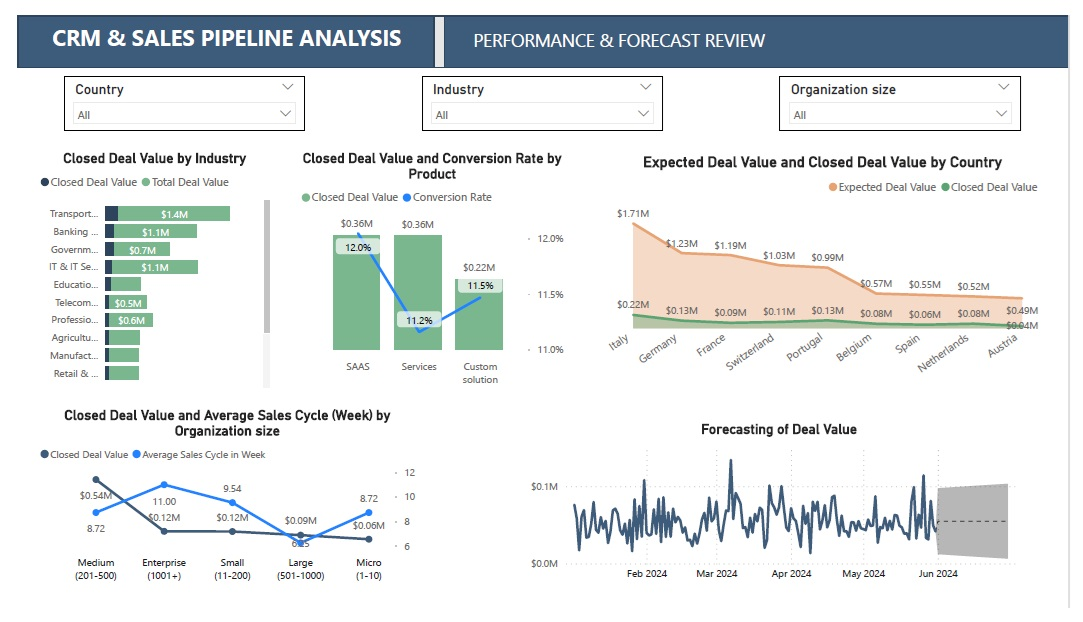

What the dashboard file says about the page in this screenshot:
{"tool":"powerbi","page":{"name":"Page 2","canvas":[1280,720],"ordinal":1},"visuals":[{"type":"lineChart","title":"Forecasting of Deal Value","fields":{"Y":["Sum(CRM_data.Deal Value, $)"],"Category":["CRM_data.Lead acquisition date.Variation.Date Hierarchy.Year","CRM_data.Lead acquisition date.Variation.Date Hierarchy.Quarter","CRM_data.Lead acquisition date.Variation.Date Hierarchy.Month","CRM_data.Lead acquisition date.Variation.Date Hierarchy.Day"]},"box":[620.5,487.3,614.6,209.3],"z":0},{"type":"lineChart","title":"Closed Deal Value and Average Sales Cycle (Week) by Organization size","fields":{"Category":["CRM_data.Organization size"],"Y":["CRM_data.Closed Deal Value"],"Y2":["Avg(CRM_data.Deal Closing Duration)"]},"box":[22,468.3,466.8,228.3],"z":1000},{"type":"areaChart","title":"Expected Deal Value and Closed Deal Value by Country","fields":{"Category":["CRM_data.Country"],"Y":["Sum(CRM_data.Deal Value, $)","CRM_data.Closed Deal Value"]},"box":[703.9,156.6,557.6,301.5],"z":2000},{"type":"shape","box":[0,0,1280,63.3],"z":3000},{"type":"textbox","box":[36.7,3.3,458.3,48.3],"z":4000},{"type":"lineStackedColumnComboChart","fields":{"Category":["CRM_data.Product"],"Y":["CRM_data.Closed Deal Value"],"Y2":["CRM_data.Conversion Rate"]},"box":[339.5,156.6,330.7,301.5],"z":5000},{"type":"barChart","title":"Closed Deal Value by Industry","fields":{"Category":["CRM_data.Industry"],"Y":["CRM_data.Closed Deal Value","Sum(CRM_data.Deal Value, $)"]},"box":[21.4,157.1,260,301.4],"z":6000},{"type":"slicer","fields":{"Values":["CRM_data.Industry"]},"box":[491.7,73.2,294.1,67.3],"z":7000},{"type":"slicer","fields":{"Values":["CRM_data.Country"]},"box":[55.6,73.2,294.1,67.3],"z":8000},{"type":"slicer","fields":{"Values":["CRM_data.Organization size"]},"box":[927.8,73.2,294.1,67.3],"z":9000},{"type":"textbox","box":[550.2,10.2,377.6,41],"z":10000},{"type":"shape","box":[506.7,0,13.3,63.3],"z":11000}]}

Visuals, with their boxes in screenshot pixels (x1, y1, x2, y2), scaled from the page's 1280x720 canvas onto the 1083x622 screenshot:
"Forecasting of Deal Value" lineChart: [525,421,1045,602]
"Closed Deal Value and Average Sales Cycle (Week) by Organization size" lineChart: [19,405,414,602]
"Expected Deal Value and Closed Deal Value by Country" areaChart: [596,135,1067,396]
shape: [0,0,1082,55]
textbox: [31,3,419,45]
lineStackedColumnComboChart - CRM_data.Product x CRM_data.Closed Deal Value: [287,135,567,396]
"Closed Deal Value by Industry" barChart: [18,136,238,396]
slicer - CRM_data.Industry: [416,63,665,121]
slicer - CRM_data.Country: [47,63,296,121]
slicer - CRM_data.Organization size: [785,63,1034,121]
textbox: [466,9,785,44]
shape: [429,0,440,55]
